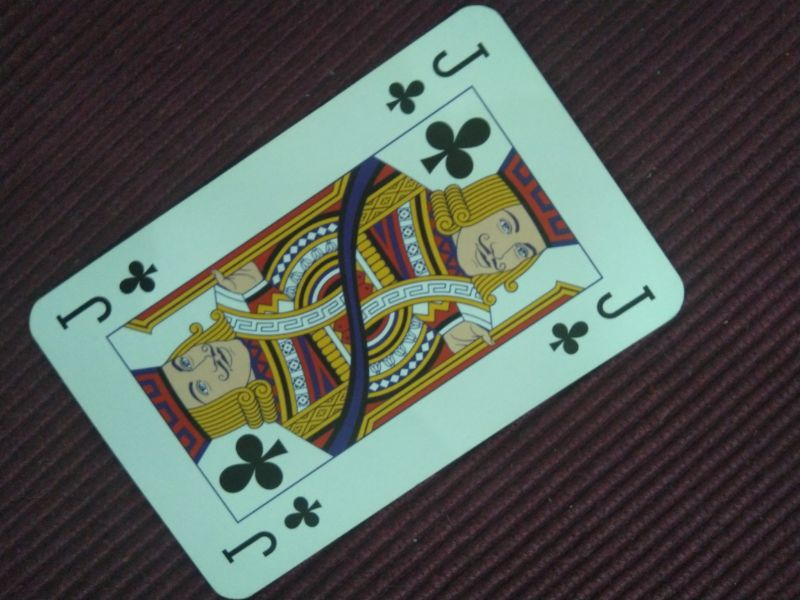Jc: (544, 284, 658, 359), (382, 40, 493, 117), (53, 257, 162, 333), (220, 493, 325, 567)
